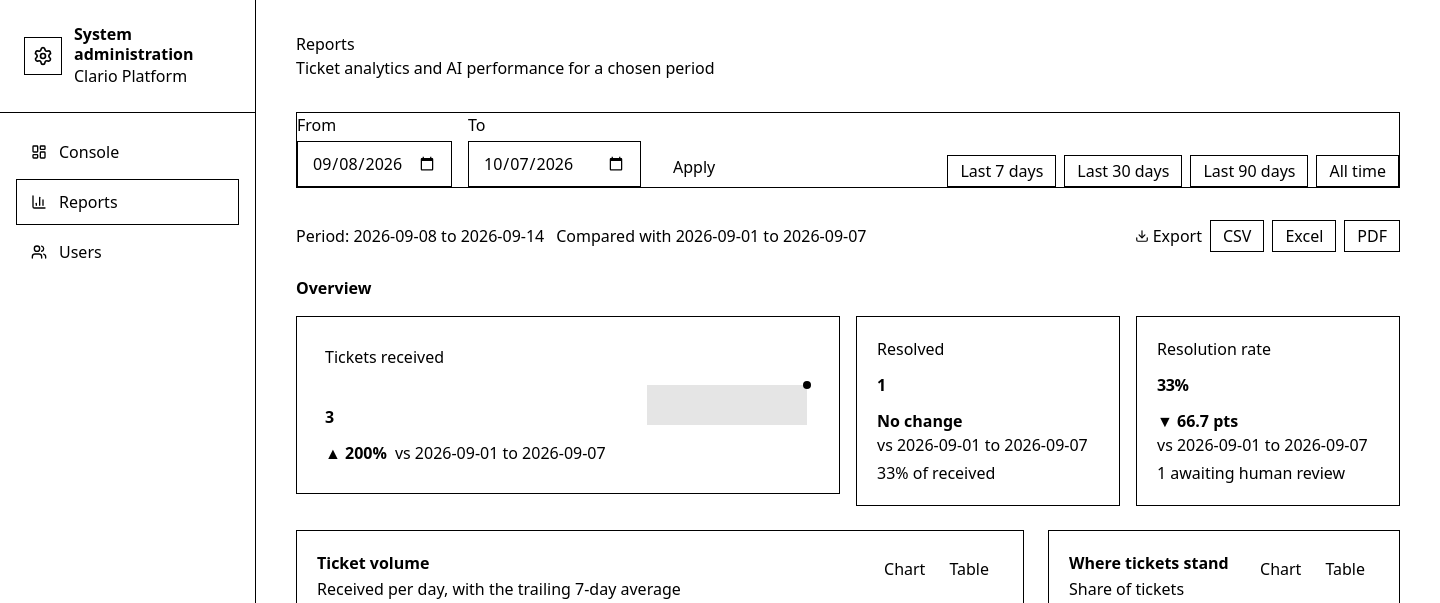
Test: Admin reports page - export (FR-053) › A1: shows the server error and downloads nothing when generation fails
The image size is (1440, 603).
Expected: the text named "Tickets received: 3" is shown, [325, 405, 334, 429]
Step 1. Click the button "PDF" → {"x": 1372, "y": 236}, box [1344, 220, 1400, 252]
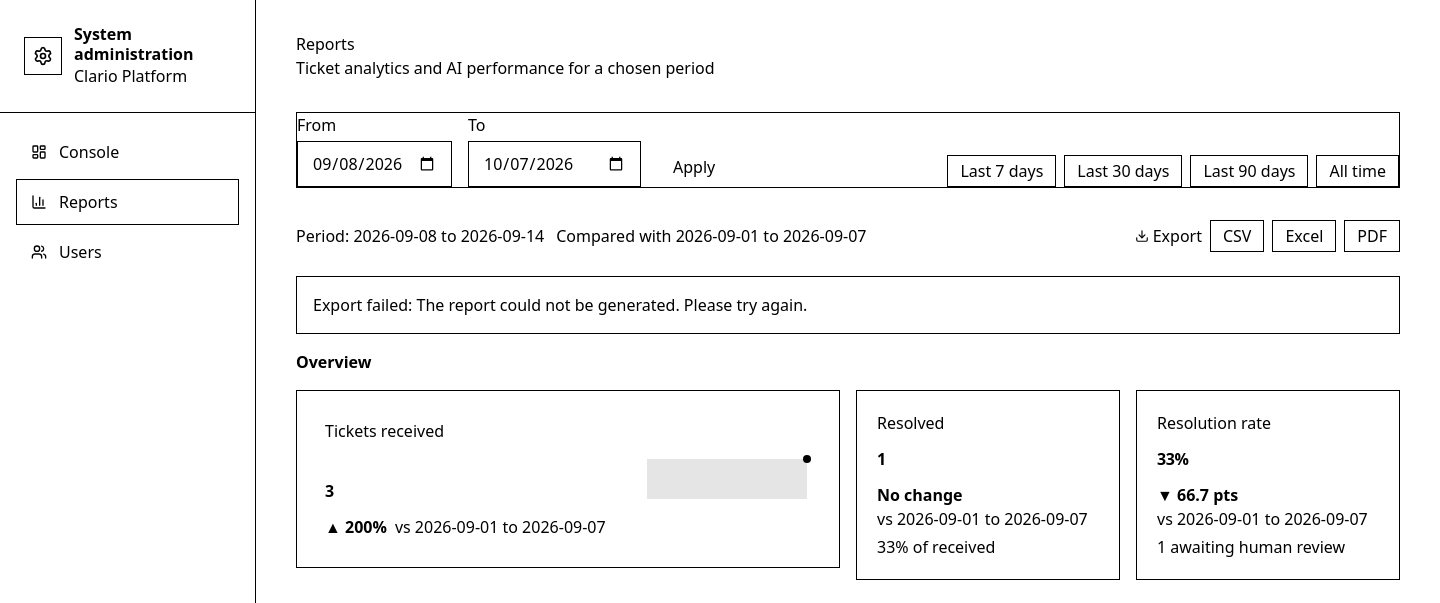
Expected: the text "Export failed: The report could not be generated" is shown, [313, 294, 807, 316]
